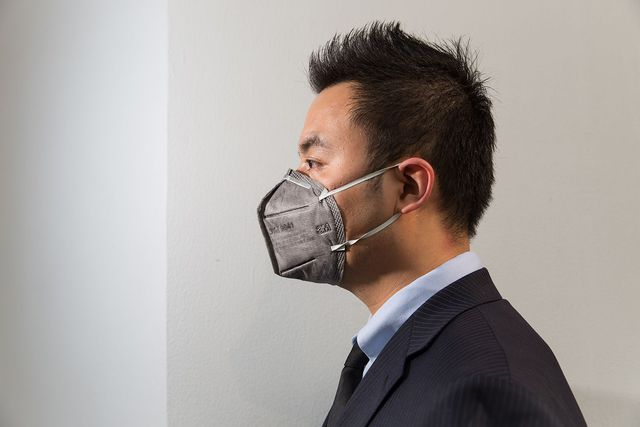mask: (251, 169, 346, 283)
